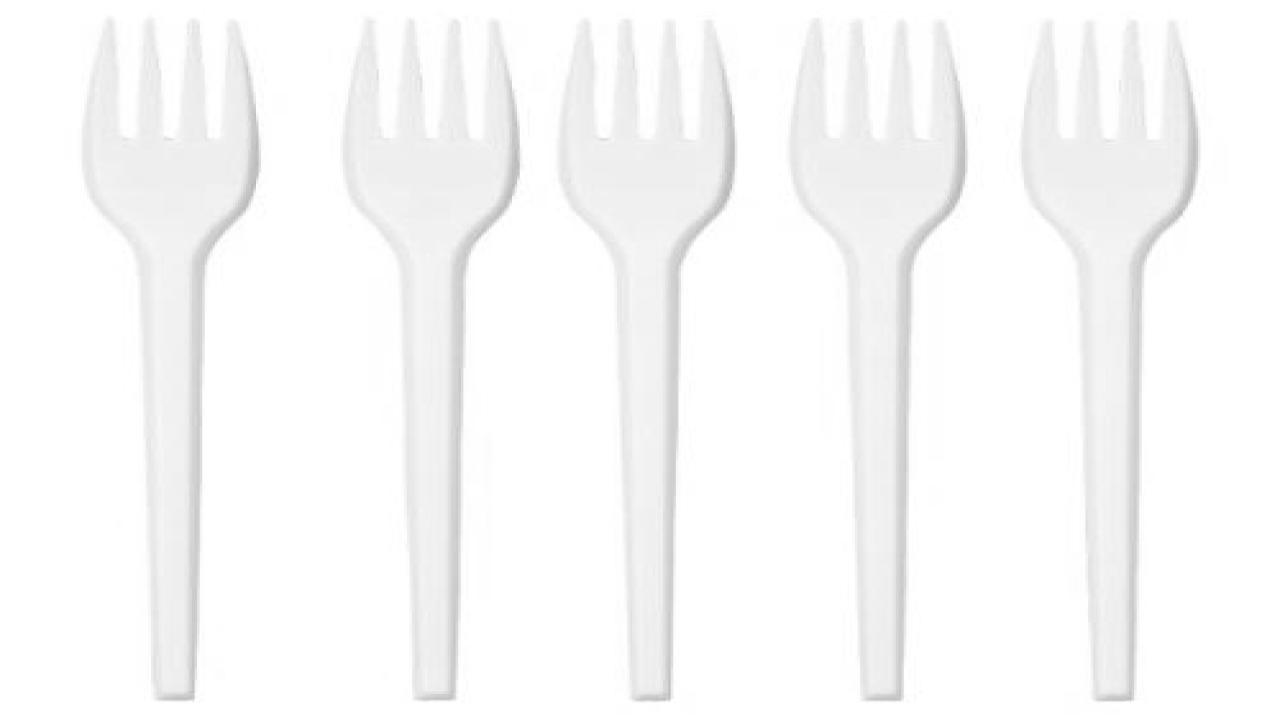fork: (340, 16, 520, 700), (1019, 18, 1198, 702), (80, 14, 258, 700), (556, 16, 734, 702), (789, 16, 965, 700)
